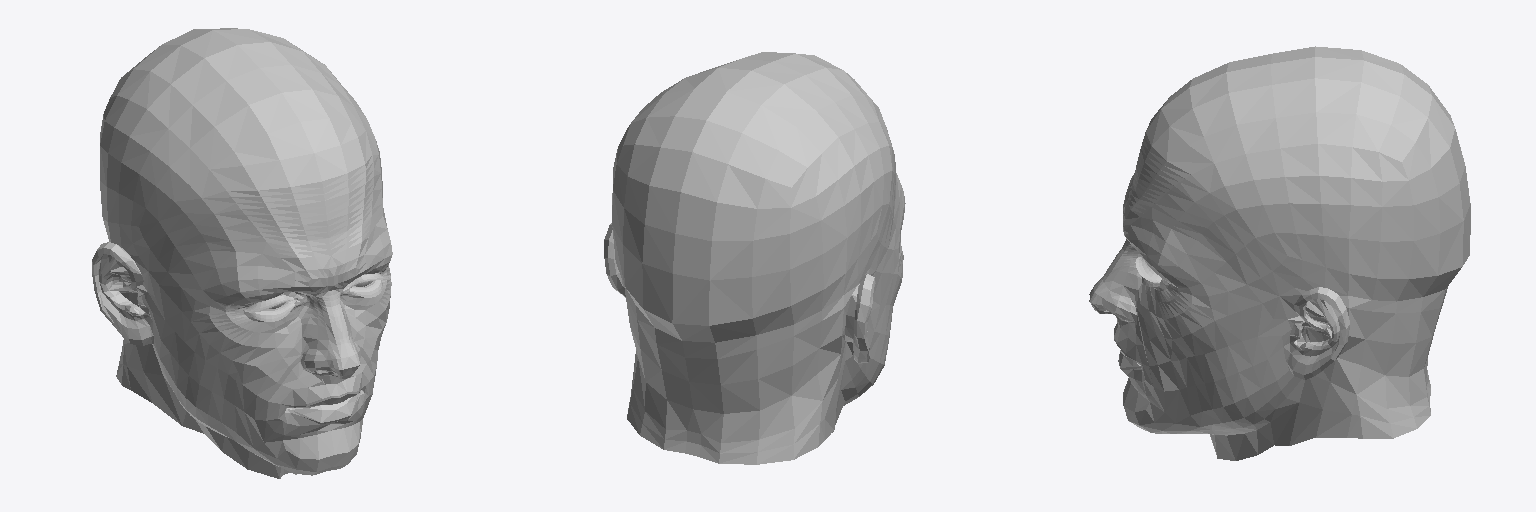
File: 00neutral.obj
3 views of the same model, side by side, from view 1: azimuth 30°, elevation 25°; view 2: azimuth 150°, elevation 25°; view 3: azimuth 270°, elevation 25° (orthographic).
Parts seen in each view (by area): view 1: head; view 2: head; view 3: head.
Boxes of the visible parts, <box> form: head: <box>92,28,392,478</box>; head: <box>604,52,905,464</box>; head: <box>1089,46,1470,460</box>.
Size of the model in its own units: 0.0743 by 0.1058 by 0.092.